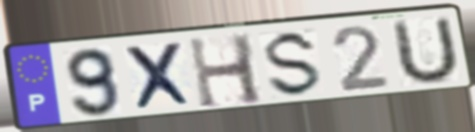2: (329, 23, 393, 95)
9: (61, 45, 124, 121)
H: (185, 32, 267, 112)
S: (264, 28, 326, 100)
U: (391, 13, 462, 88)
X: (120, 40, 199, 114)
